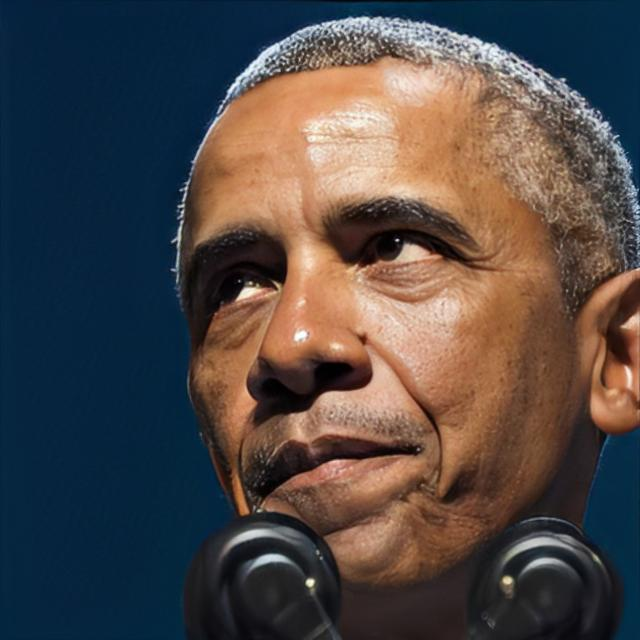anger: (175, 70, 575, 592)
